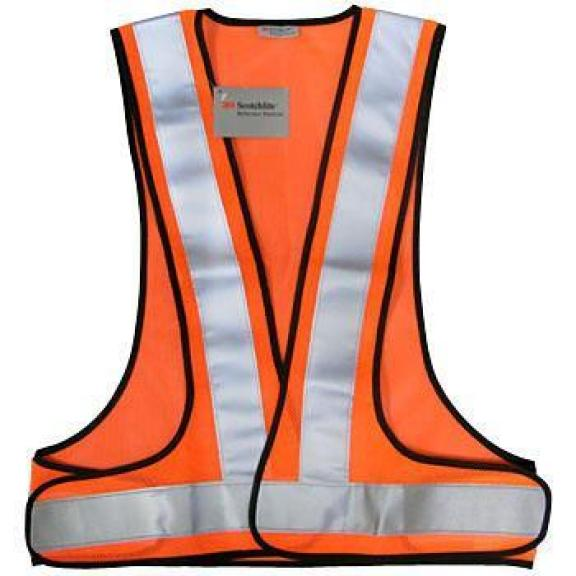safety_vest: (23, 3, 551, 571)
